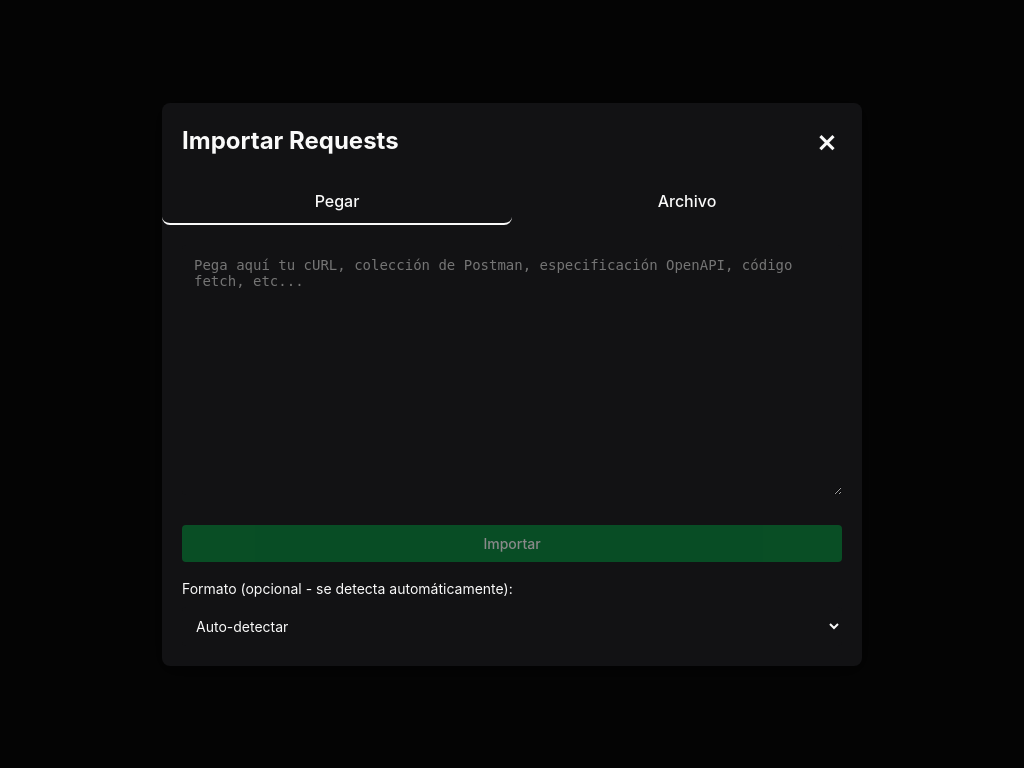
Test: ImportModal Final Unified Integration › covers missing requests branch in performImport
Replace the text in the text box with class "importModal__textarea" with "spec" at (512, 370), box [182,244,842,494]
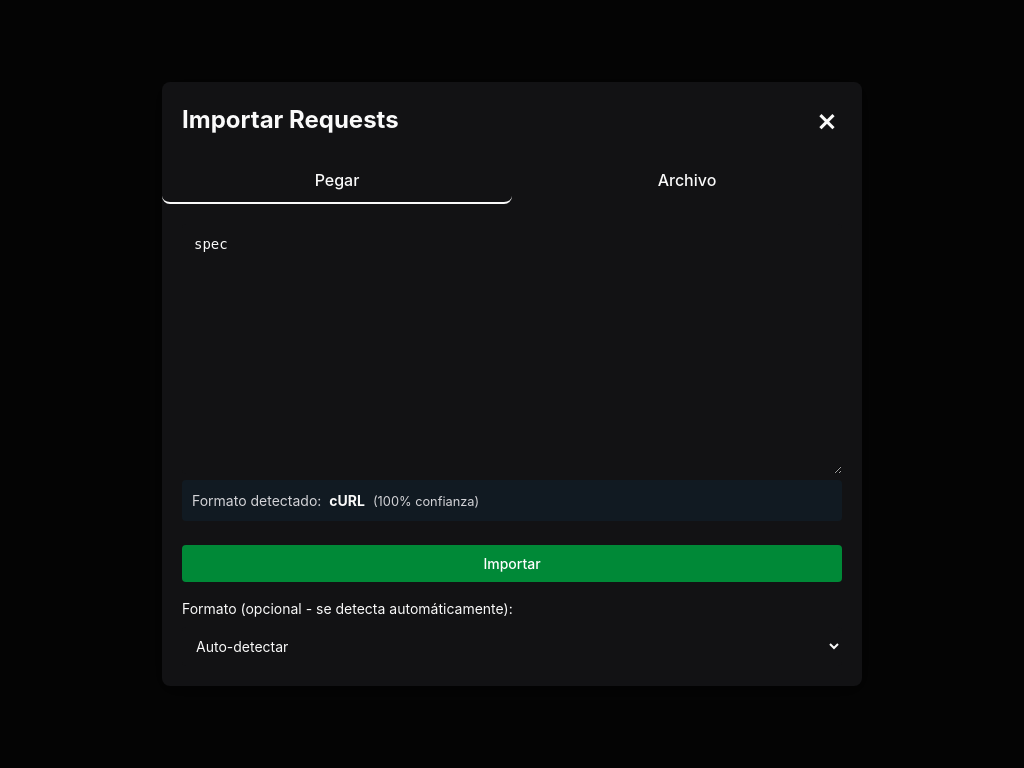
Click the button with class "importModal__button--primary" at (512, 564), box [182,545,842,582]
(page scrolled)
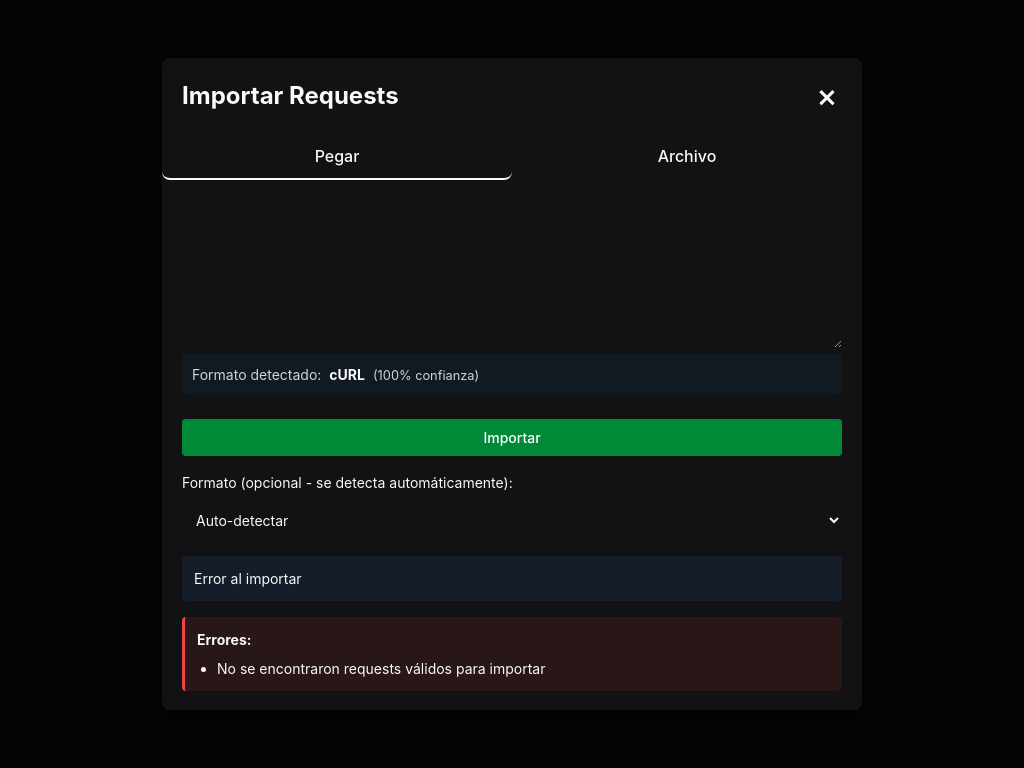
Now the element with class "importModal__errors" shows "No se encontraron requests", box [217,660,546,677]
